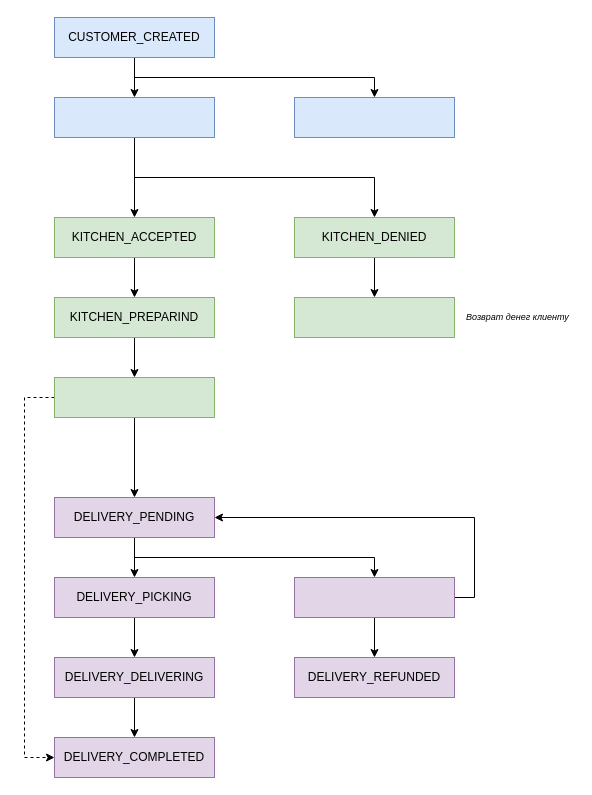
This 592x795 diagram has some shape labels left out. The shapes that lost their labels are listed below. From the top down, each one's centre as x and y in pixels, then its label:
(134,117): CUSTOMER_PAID
(374,117): CUSTOMER_CANCELLED
(374,317): KITCHEN_REFUNDED
(134,397): KITCHEN_COMPLETED
(374,597): DELIVERY_DENIED
